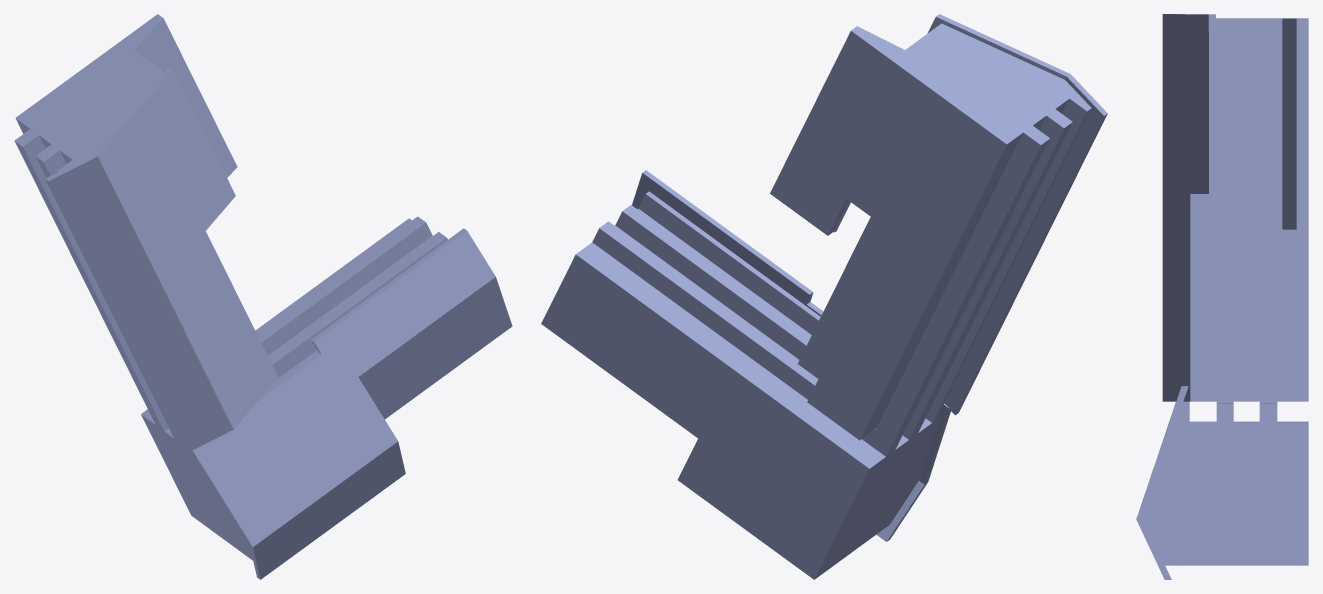
File: raffles-hall-5.glb
The picture shows the model from 3 angles, left to right: view 1: azimuth 30°, elevation 25°; view 2: azimuth 150°, elevation 25°; view 3: azimuth 270°, elevation 25°; orthographic projection. The views are drawn at different scales.
Parts seen in each view (by area): view 1: Raffles Hall Blk 2; view 2: Raffles Hall Blk 2; view 3: Raffles Hall Blk 2.
Part boxes in pixels (left/top/right/bottom): Raffles Hall Blk 2: left=14, top=14, right=512, bottom=579; Raffles Hall Blk 2: left=541, top=14, right=1107, bottom=579; Raffles Hall Blk 2: left=1136, top=14, right=1308, bottom=579.
Size of the model in its own units: 39.7 by 42.34 by 12.15.
